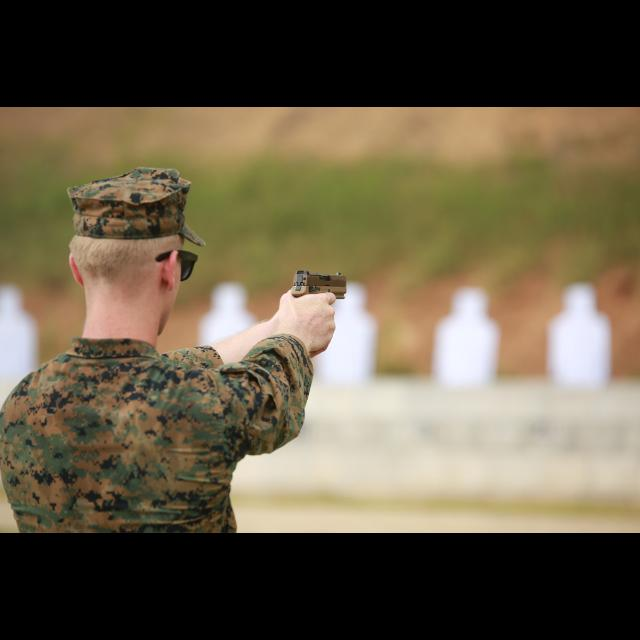handgun: (285, 266, 351, 302)
